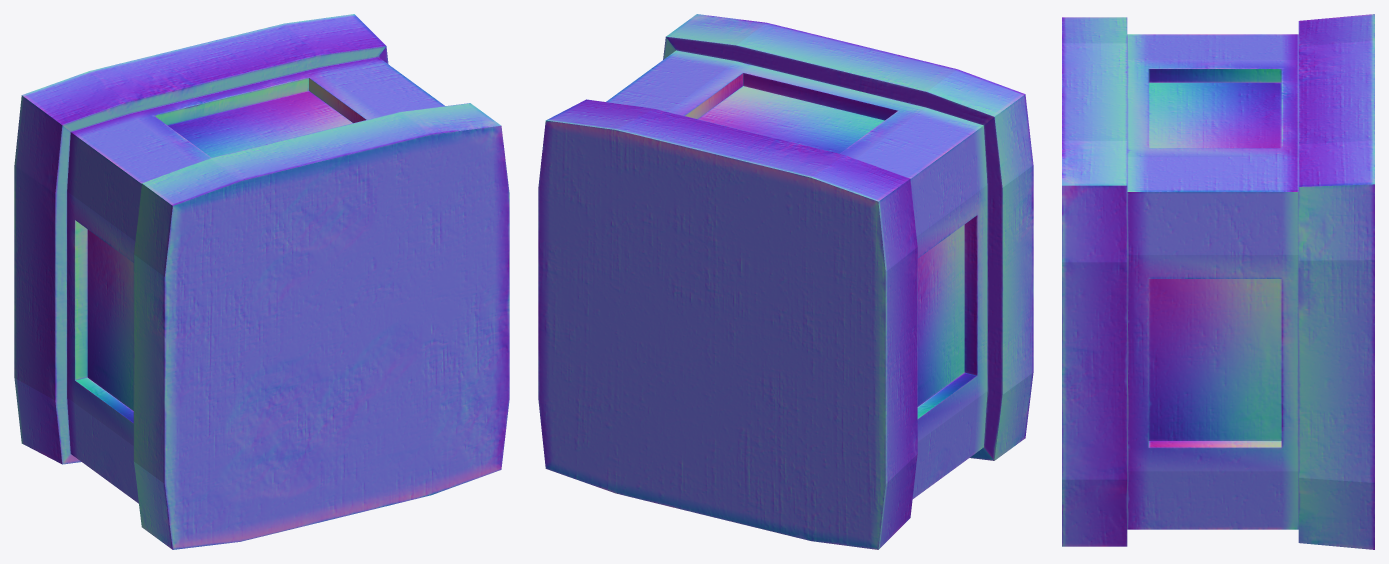
Rendered from Pillar_base_lo77.fbx.
3 views of the same model, side by side, from view 1: azimuth 30°, elevation 25°; view 2: azimuth 150°, elevation 25°; view 3: azimuth 270°, elevation 25° (orthographic). The views are drawn at different scales.
Visible parts, largest first — view 1: Pillar_base_lo77; view 2: Pillar_base_lo77; view 3: Pillar_base_lo77.
Part boxes in pixels (left/top/right/bottom): Pillar_base_lo77: left=14, top=14, right=509, bottom=549; Pillar_base_lo77: left=538, top=14, right=1033, bottom=549; Pillar_base_lo77: left=1062, top=14, right=1374, bottom=549.
Size of the model in its own units: 240 by 240 by 178.
